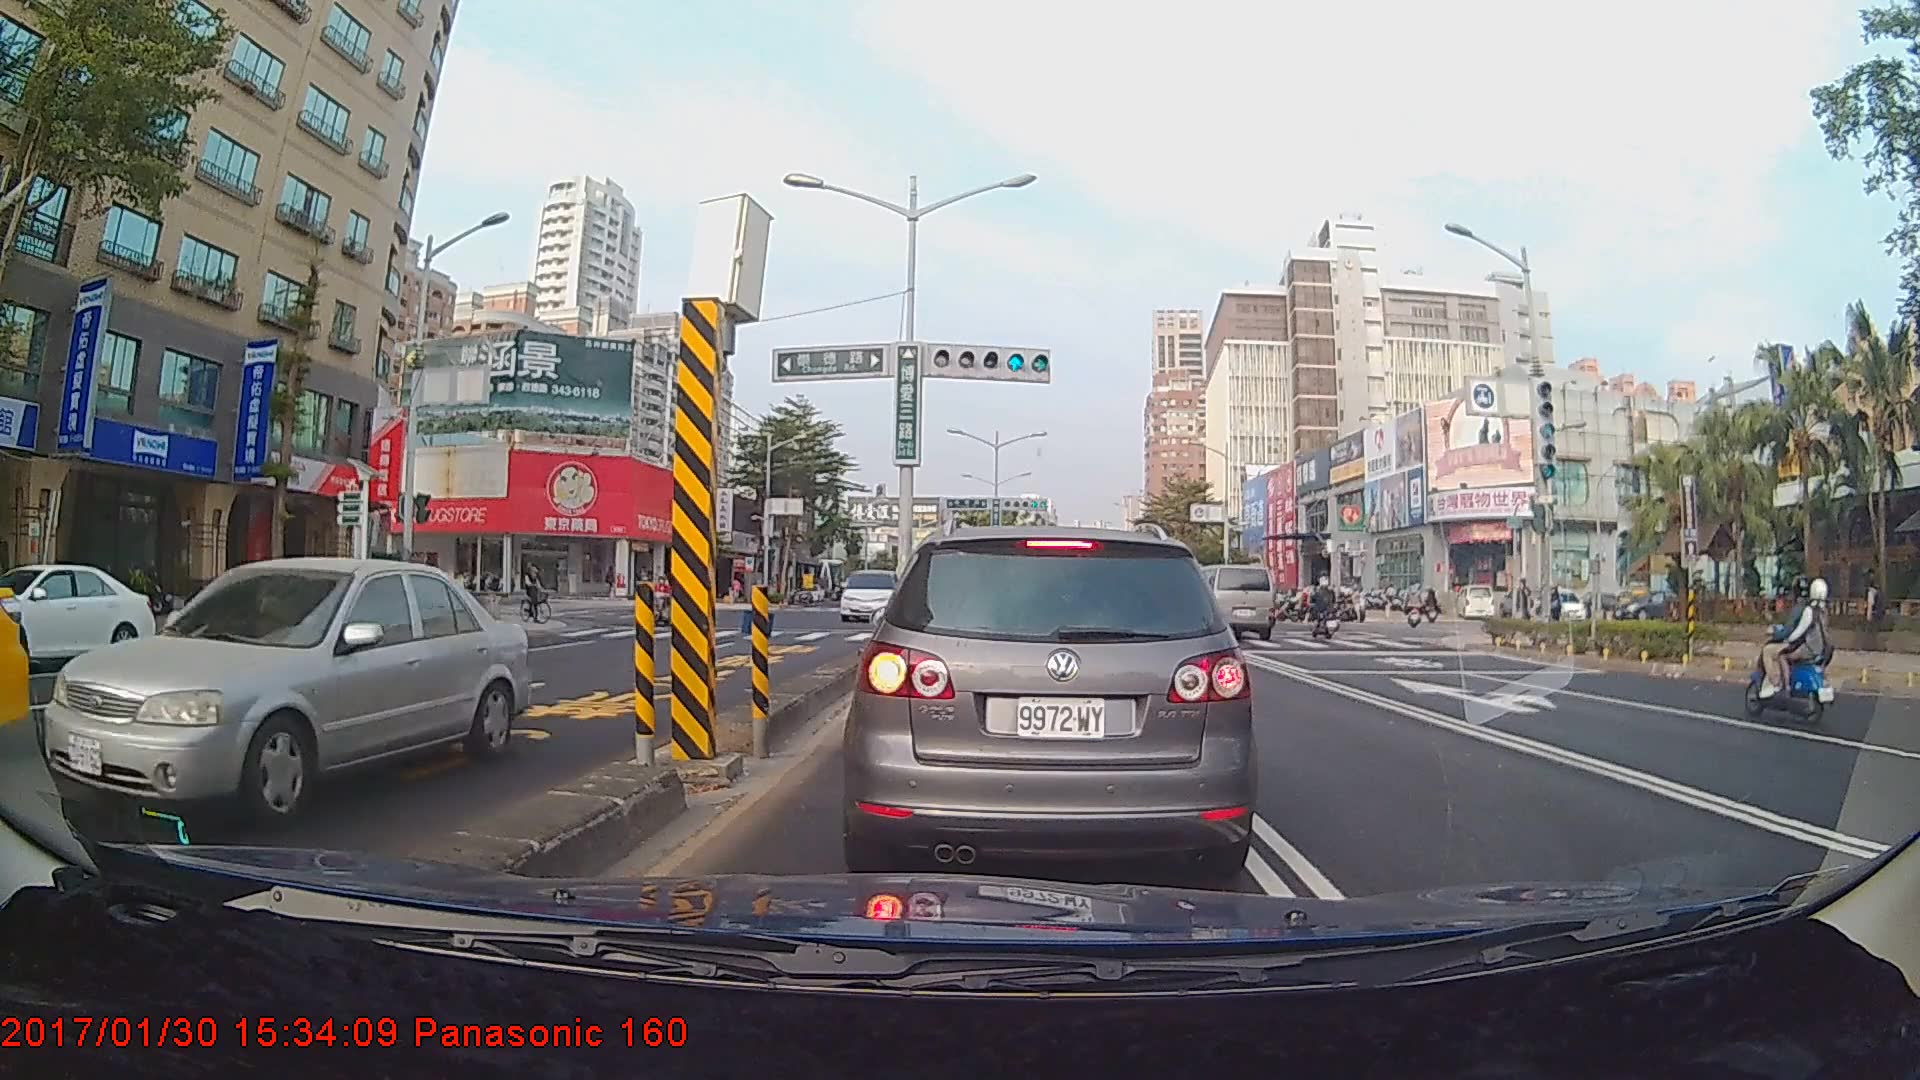pedestrian: (1857, 580, 1884, 654)
rider: (1734, 568, 1842, 734), (518, 559, 561, 629), (1309, 579, 1347, 643), (1399, 582, 1424, 634)
vehicle: (41, 550, 533, 839), (854, 522, 1248, 883), (0, 561, 159, 671), (1169, 561, 1276, 641), (837, 567, 908, 621)
